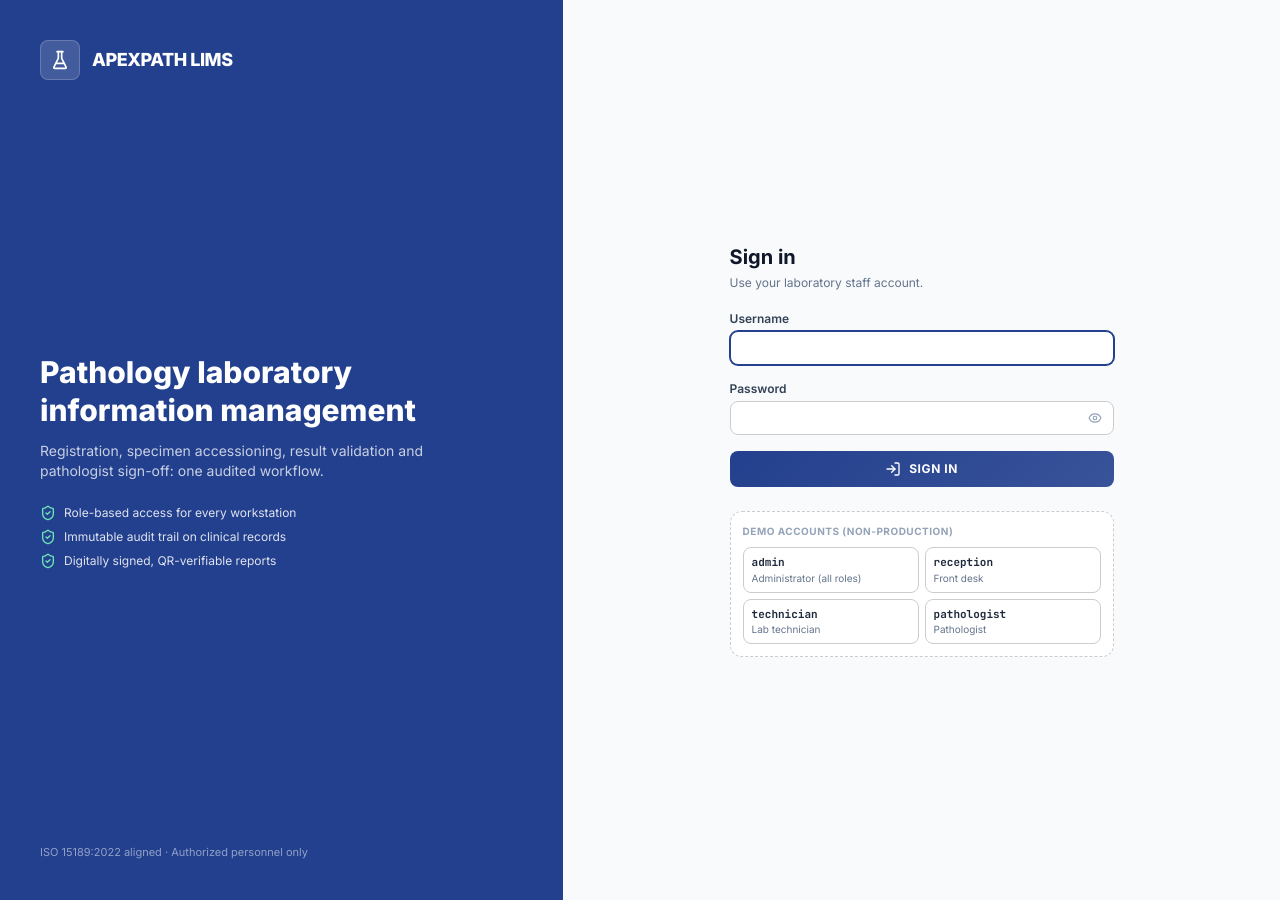
Test case: LoginPage › shows the lockout message from the server
Type "reception" into the field labelled "Username". click: (922, 348)
box: [730,331,1114,365]
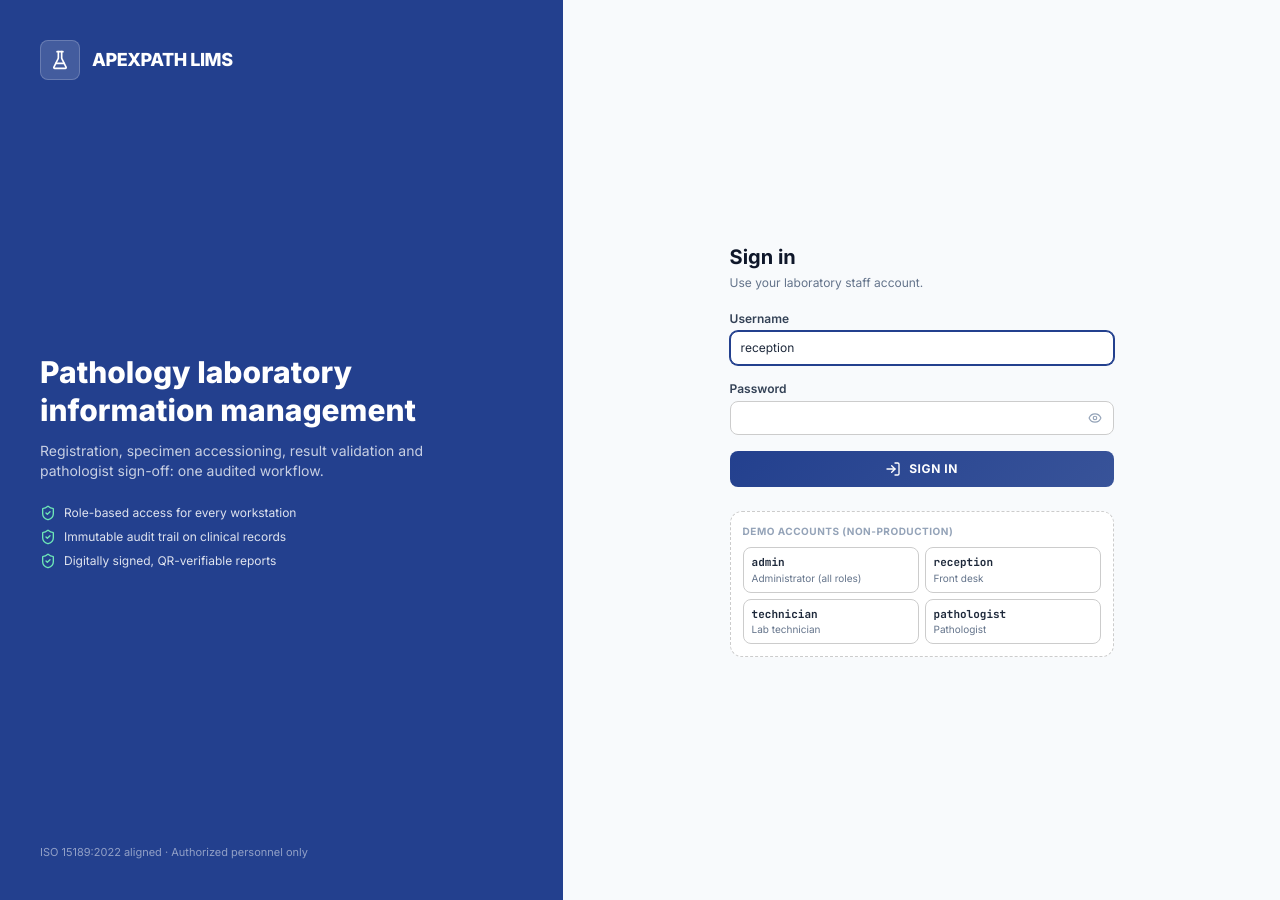
Type "x" into the password field labelled "Password". click: (922, 418)
box: [730,401,1114,435]
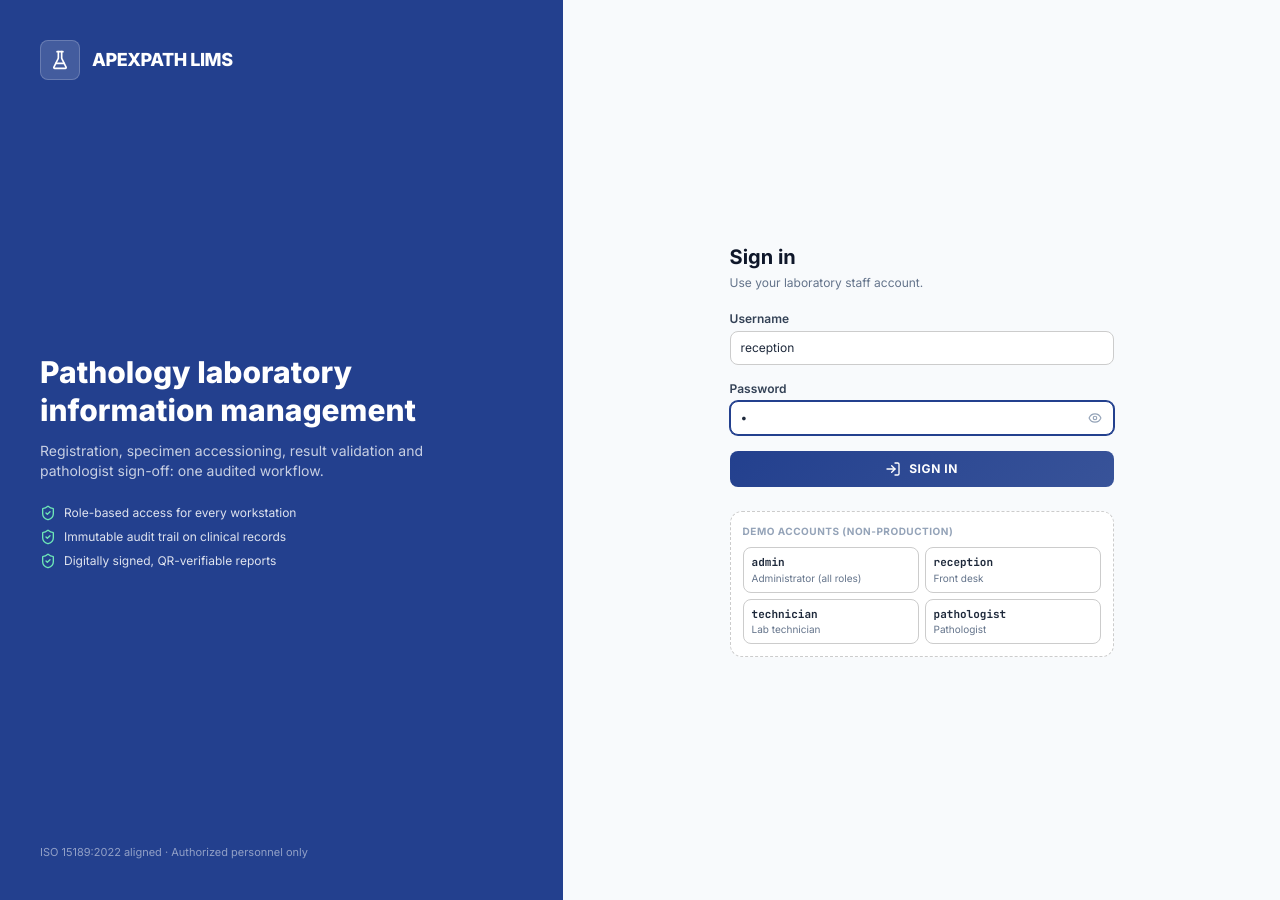
Click the button "Sign in". click: (922, 469)
box: [730,451,1114,487]
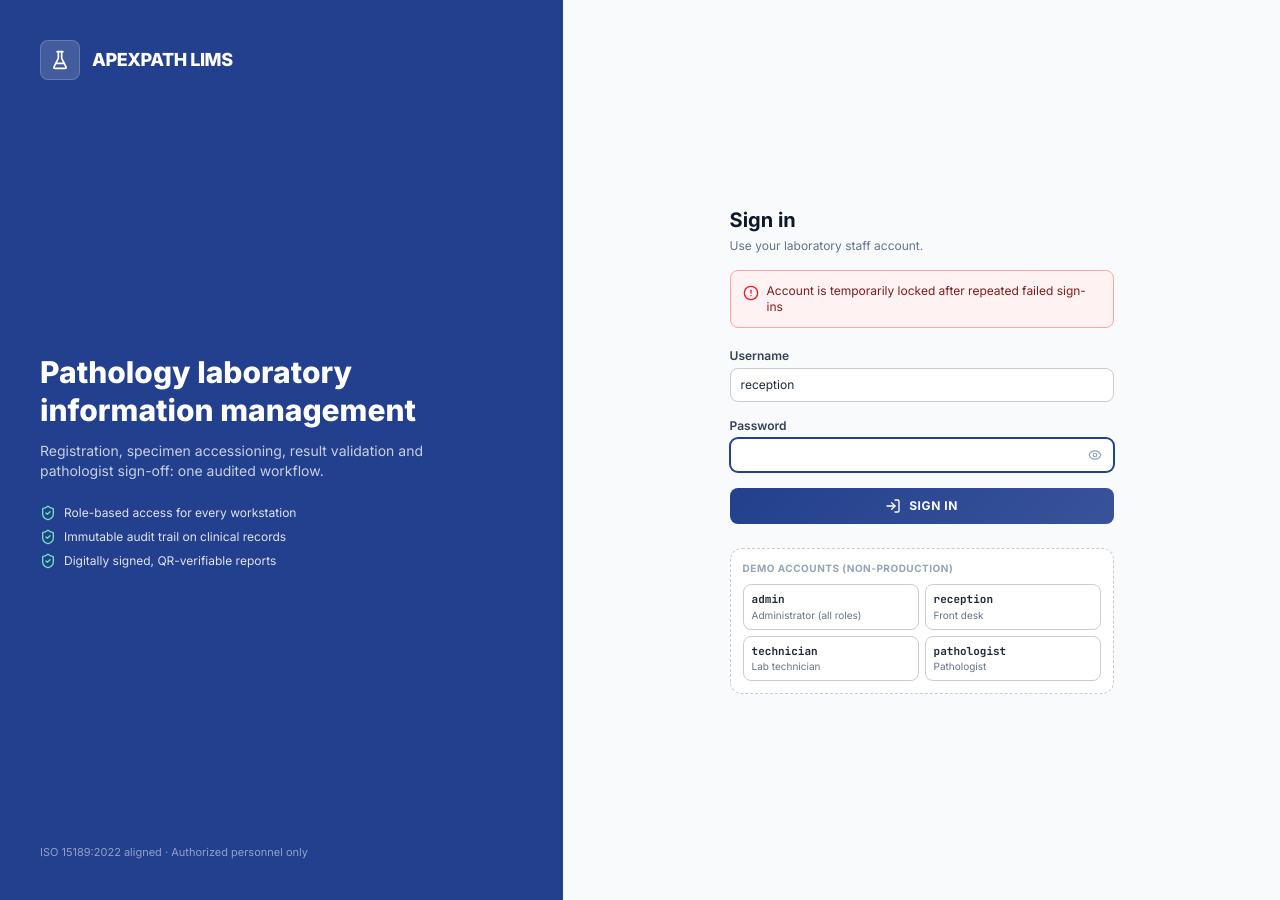
Check: the text "Account is temporarily locked after repeated failed sign-ins" is shown, box [730,270,1114,328]
